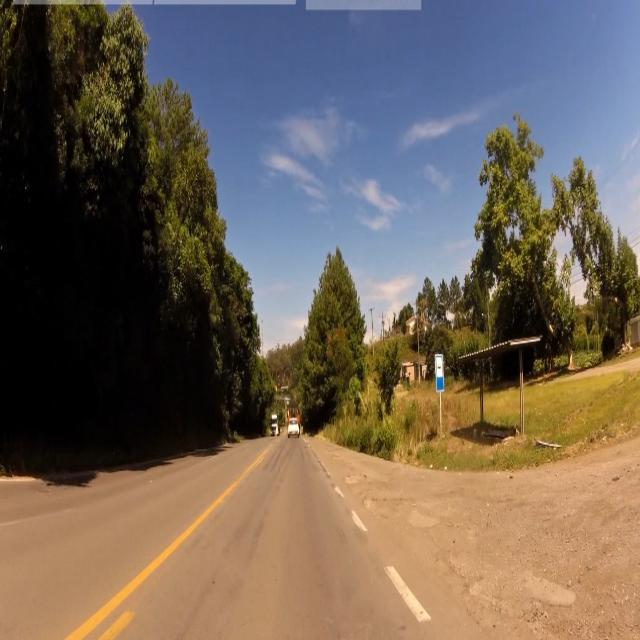S-14: (436, 352, 444, 394)
